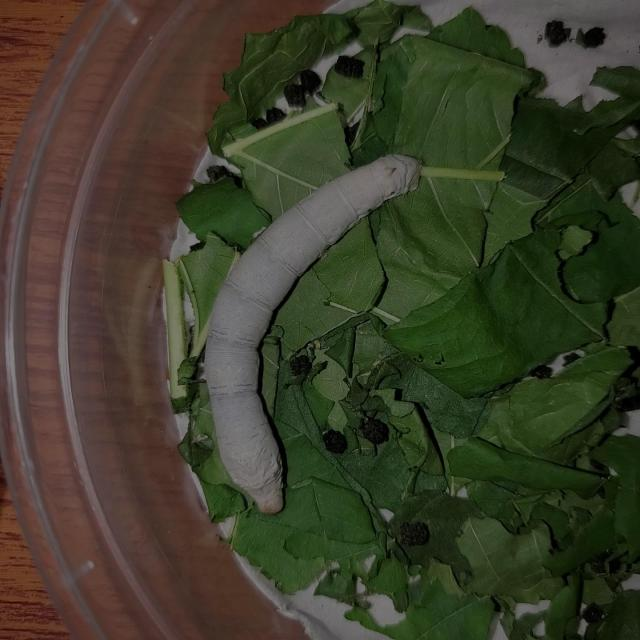Healthy: (150, 114, 475, 539)
